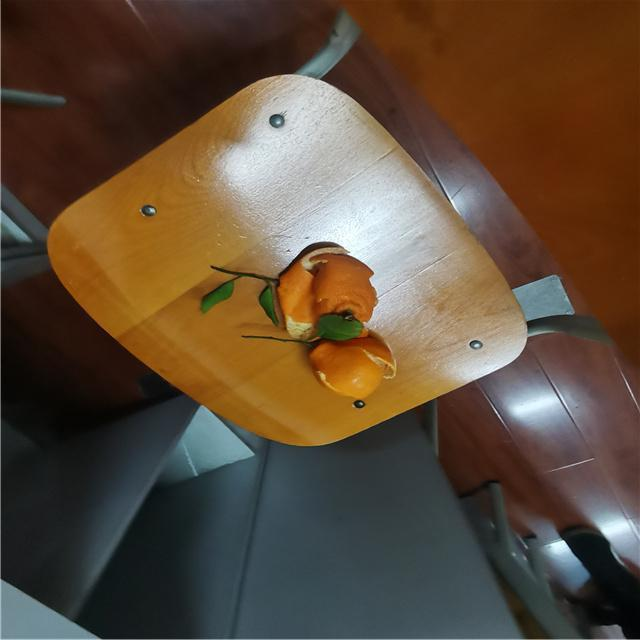orange peel: (272, 240, 382, 344), (287, 331, 414, 410)
